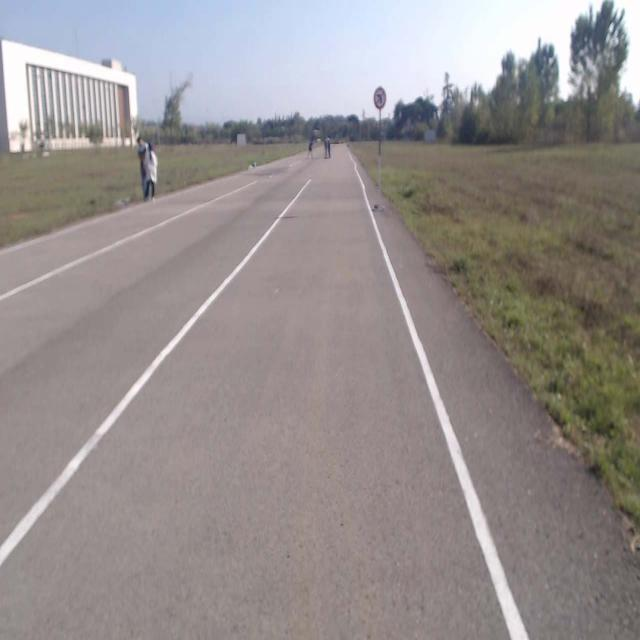soladonulmez: (374, 88, 385, 108)
